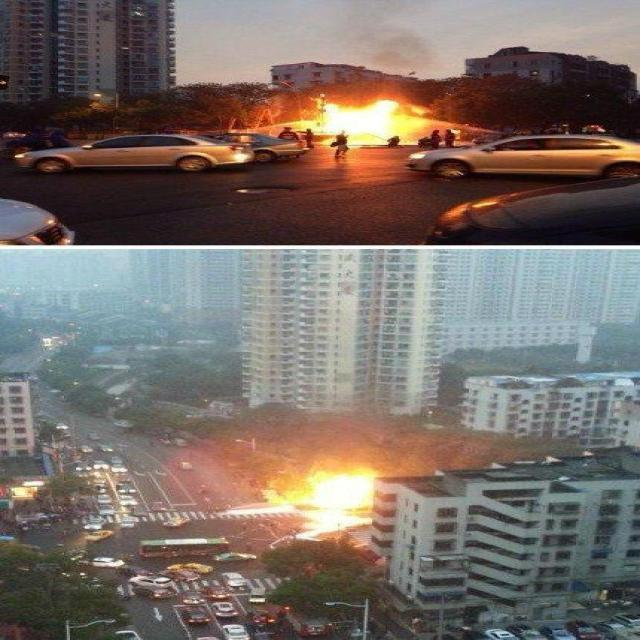Fire: (260, 465, 376, 540), (304, 93, 432, 148)
